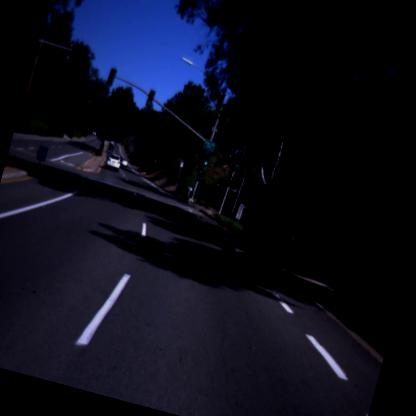trafficlight: (233, 149, 244, 171), (105, 67, 117, 87), (145, 88, 156, 107), (202, 152, 210, 169)
